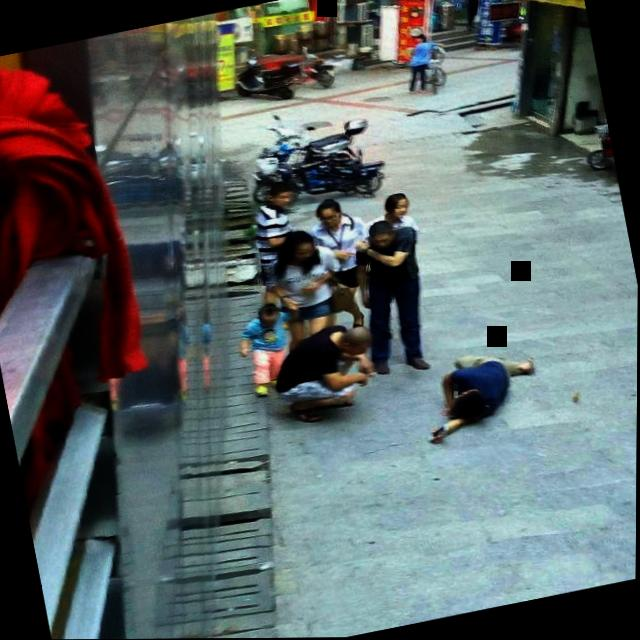Fall-Detected: (404, 332, 555, 445)
